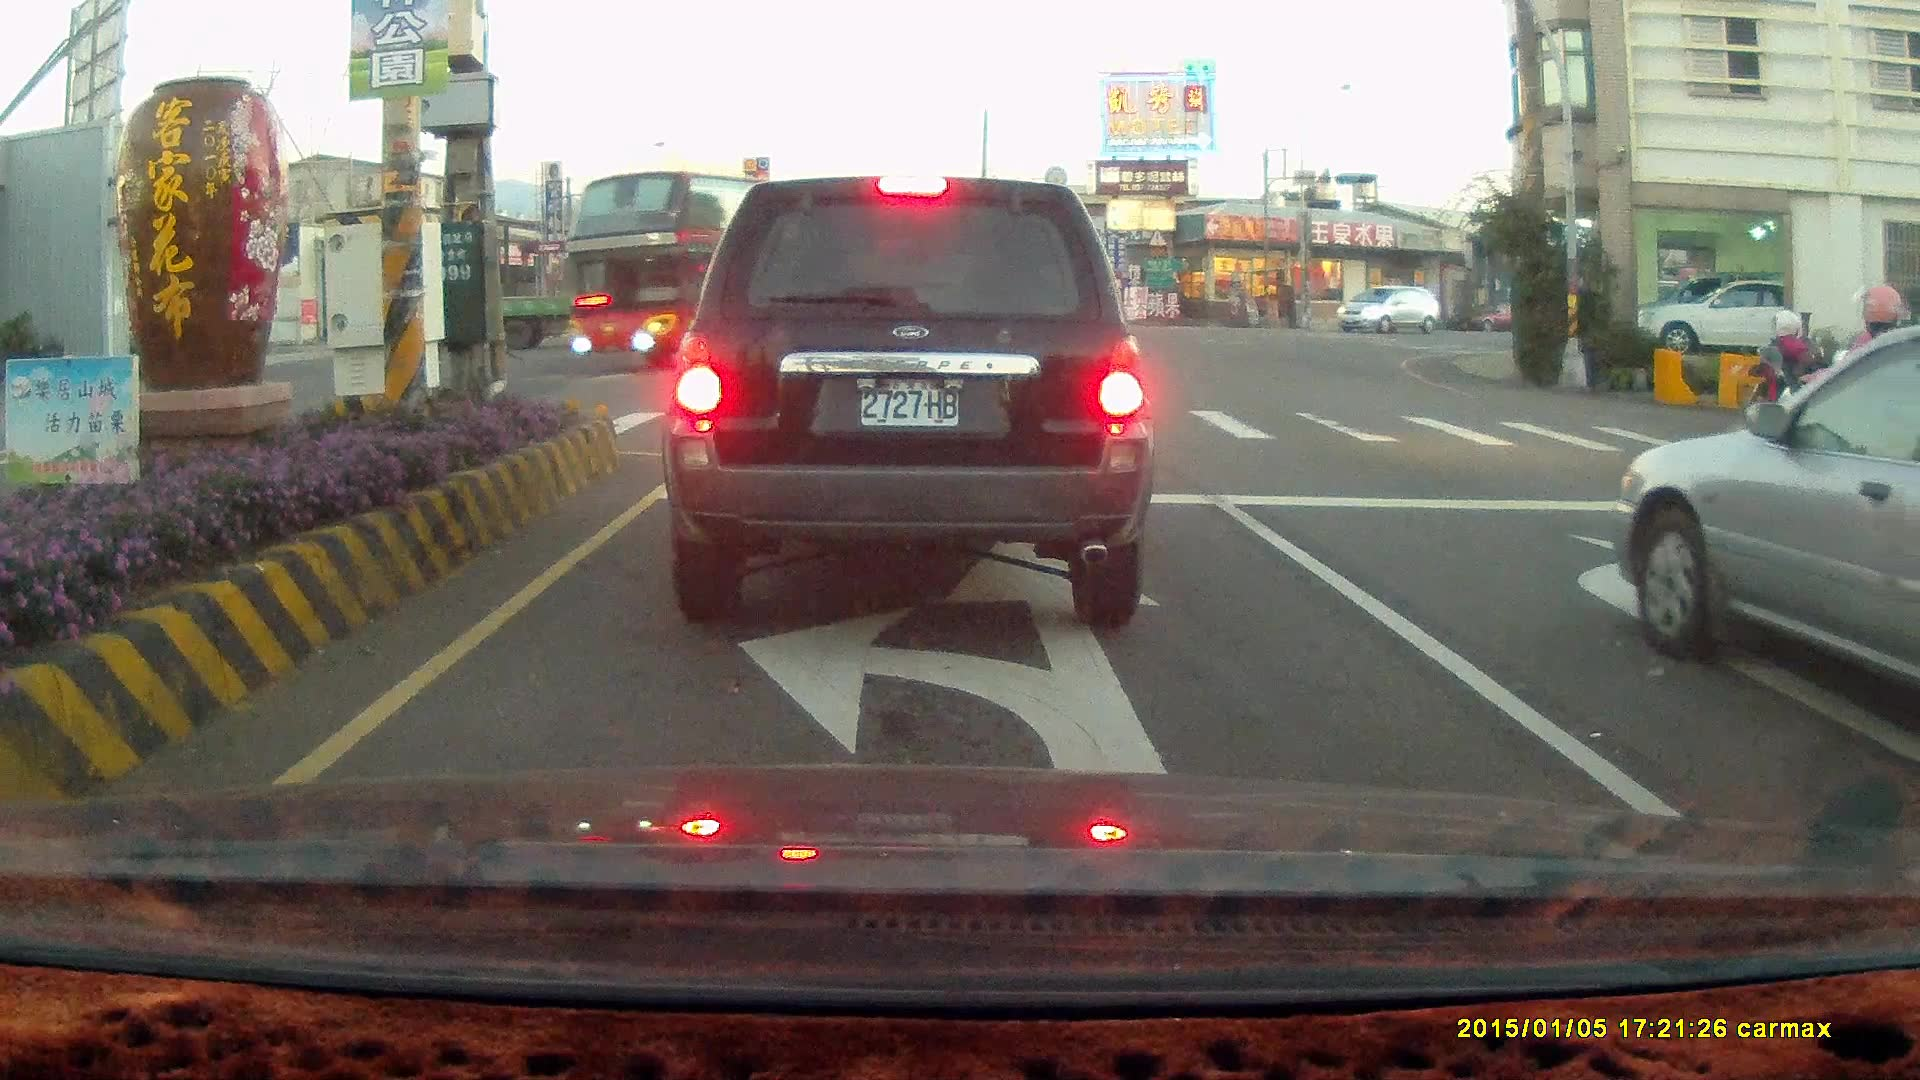rider: (1729, 308, 1824, 461)
vehicle: (659, 173, 1155, 630), (1596, 323, 1920, 732), (1614, 326, 1920, 704), (505, 254, 700, 347), (1629, 275, 1835, 358), (1642, 275, 1784, 356), (1896, 493, 1920, 836), (1337, 286, 1444, 340)
